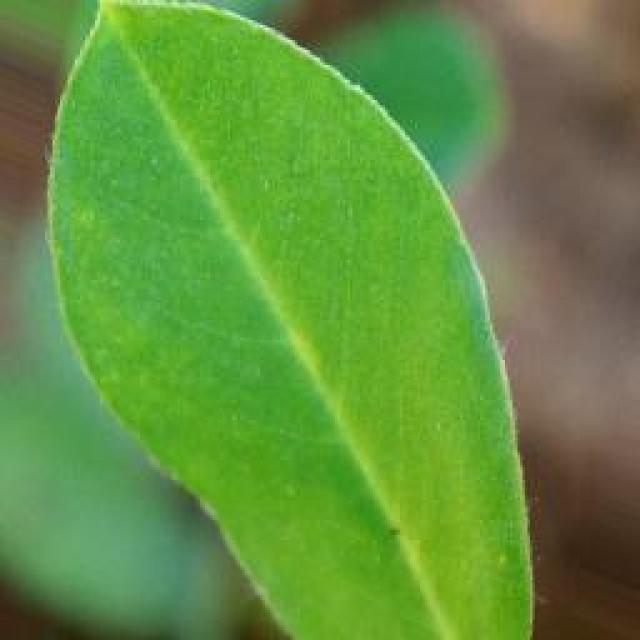Yellow_and_black_sigatoka: (49, 0, 541, 640)
